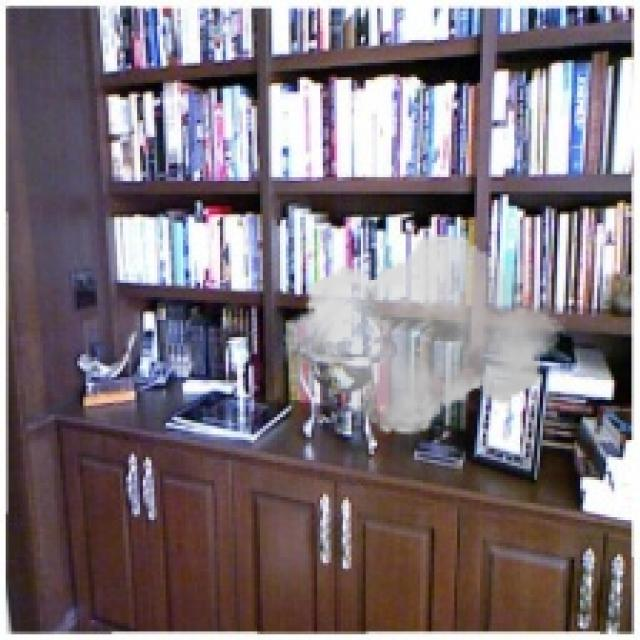smoke: (283, 226, 566, 443)
